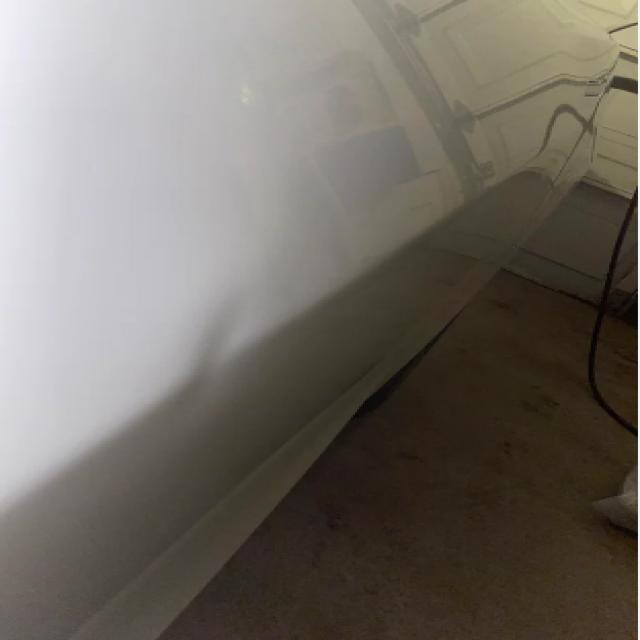dents: (145, 294, 318, 433)
